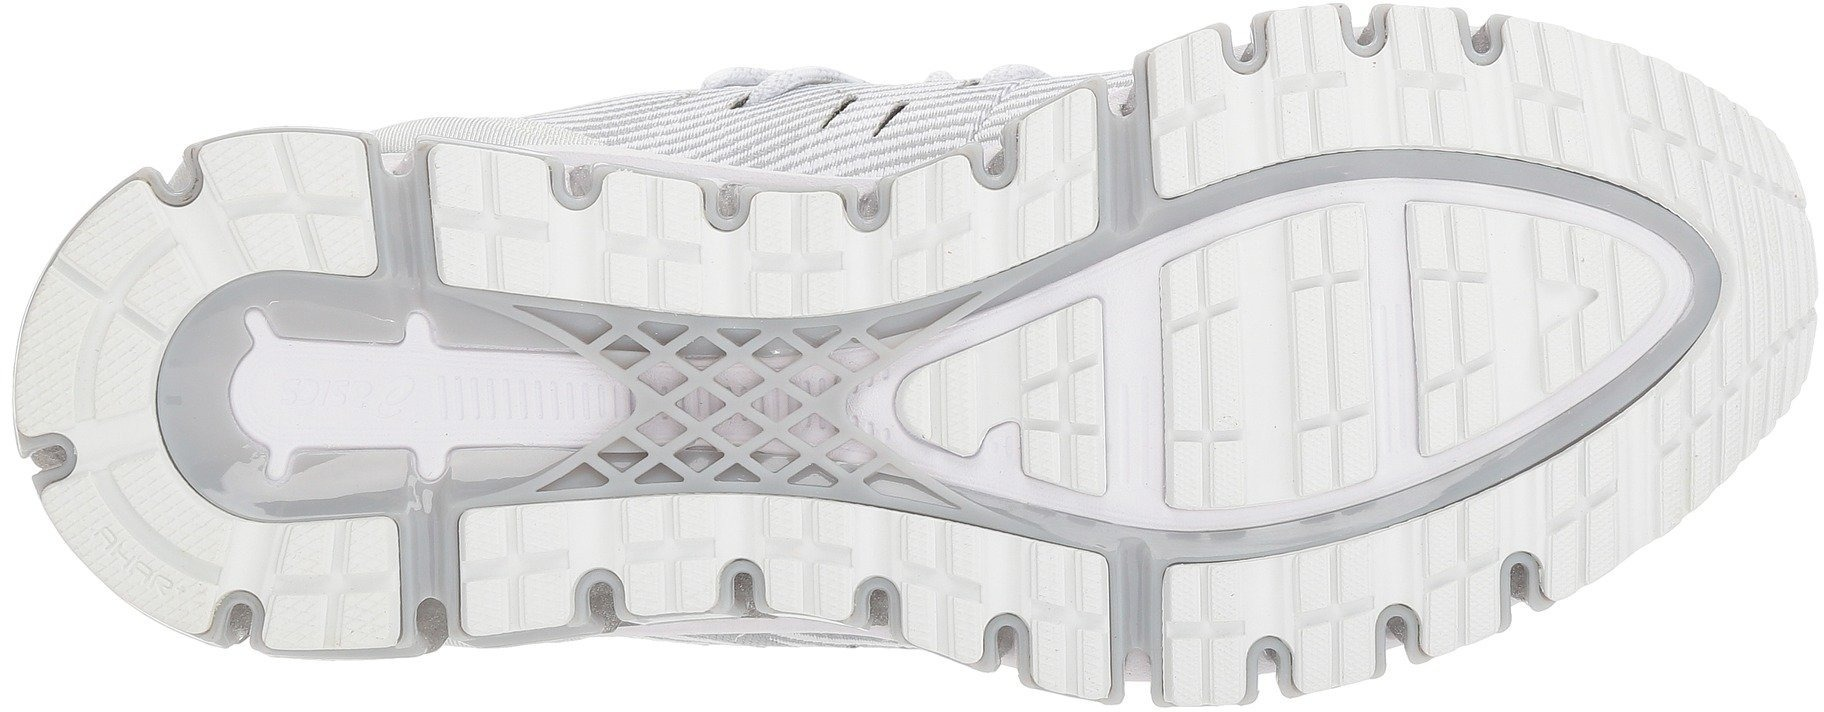exclude: (567, 612, 918, 711)
quad: (1181, 238, 1432, 474), (1434, 205, 1641, 408), (634, 316, 831, 491), (970, 309, 1137, 477), (226, 129, 385, 264)
